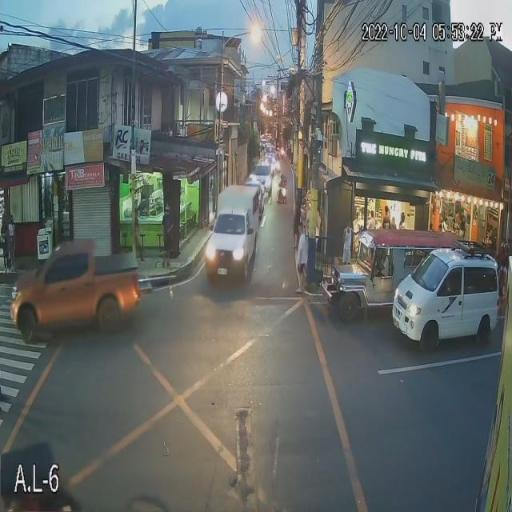motorcycle: (277, 188, 287, 206)
rider: (278, 177, 286, 195)
